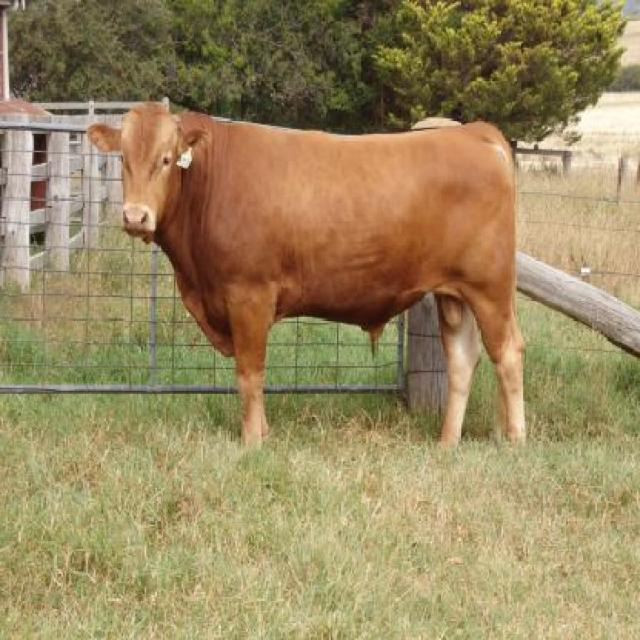Cow: (88, 102, 534, 466)
